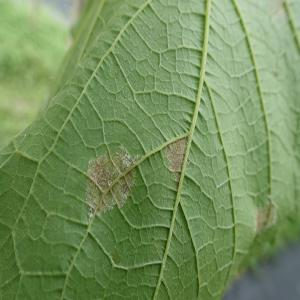Folha: (1, 0, 299, 299)
Fungo: (84, 133, 188, 221), (85, 143, 137, 221), (164, 134, 188, 182), (254, 194, 277, 234)
